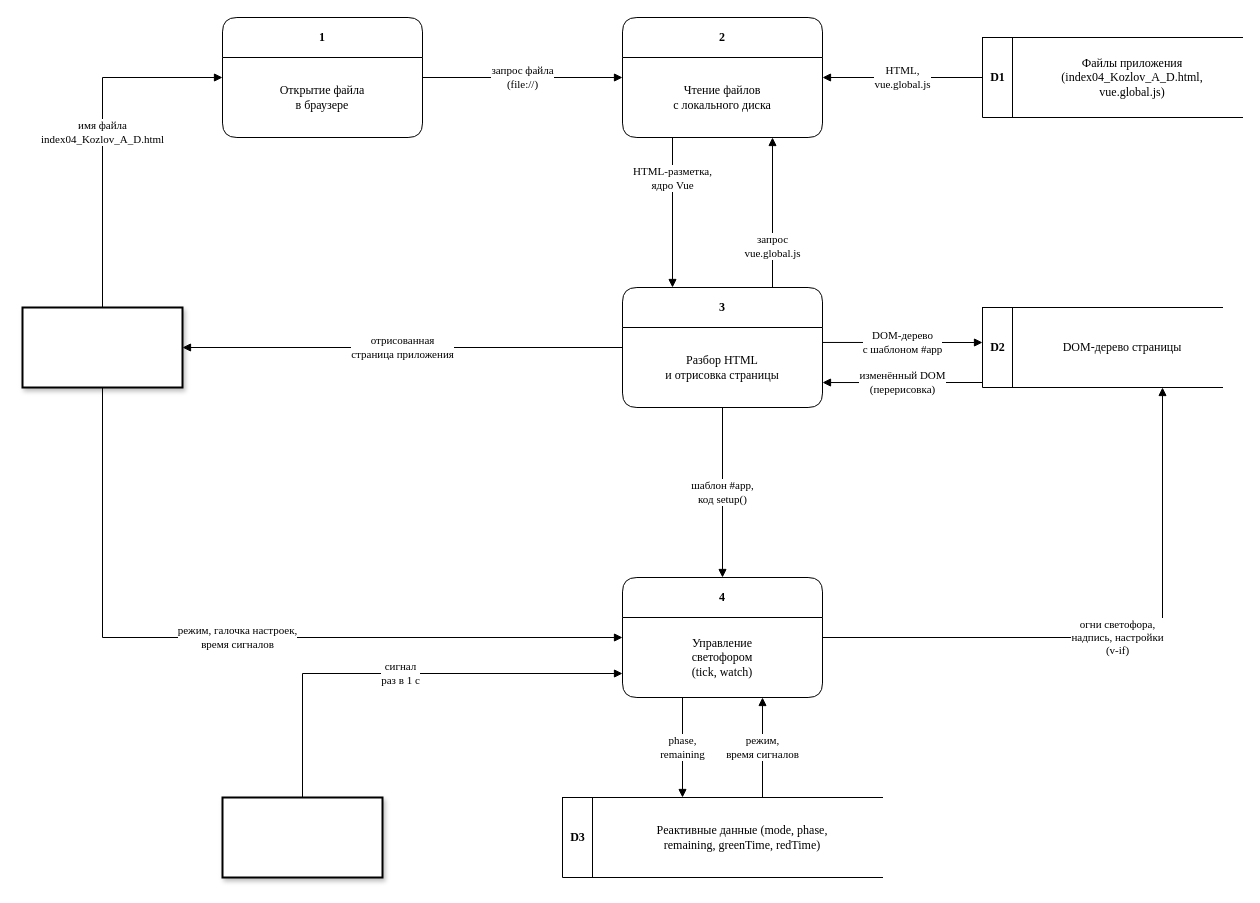
The diagram is 1260 pixels wide and 903 high, and some of its shapes have lost their labels. Here are the shapes that lost their labels. From the top down, the centre of each, then its label:
[103,348]: Пользователь
[303,838]: Системный таймер (setInterval)
